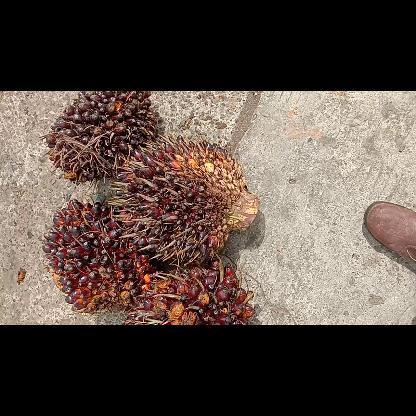Kurang masak: (109, 132, 265, 268), (38, 196, 164, 316), (42, 91, 164, 179), (119, 258, 260, 324)
